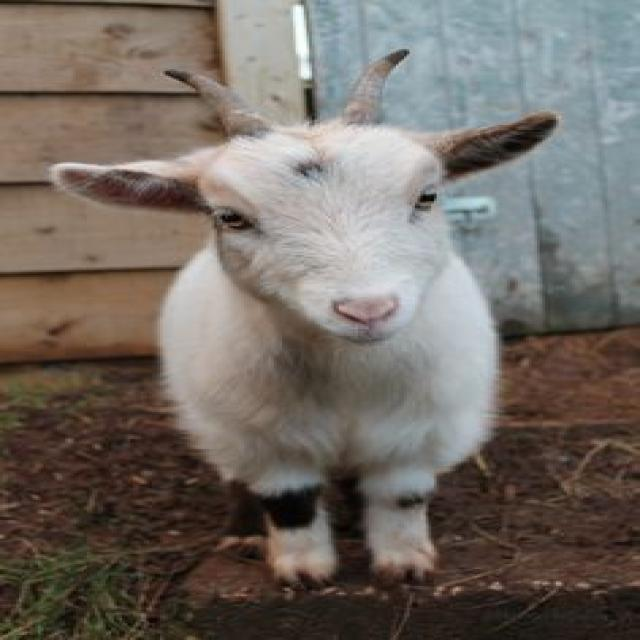Herbivorous: (52, 52, 561, 599)
